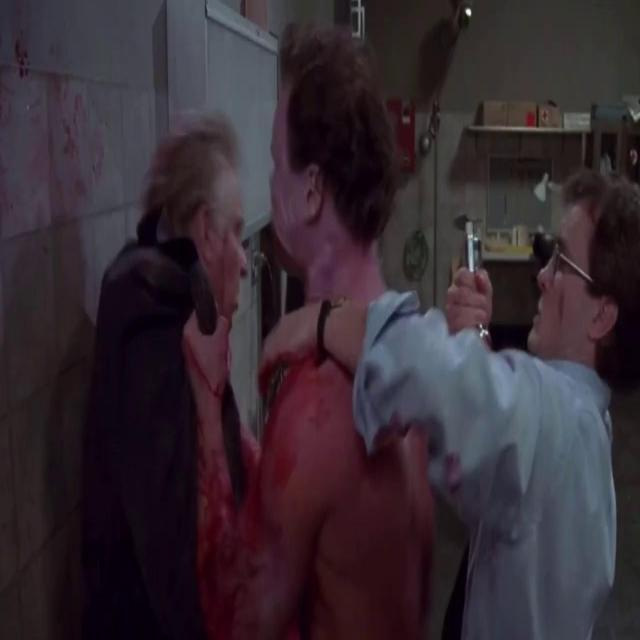flood: (152, 238, 297, 610)
